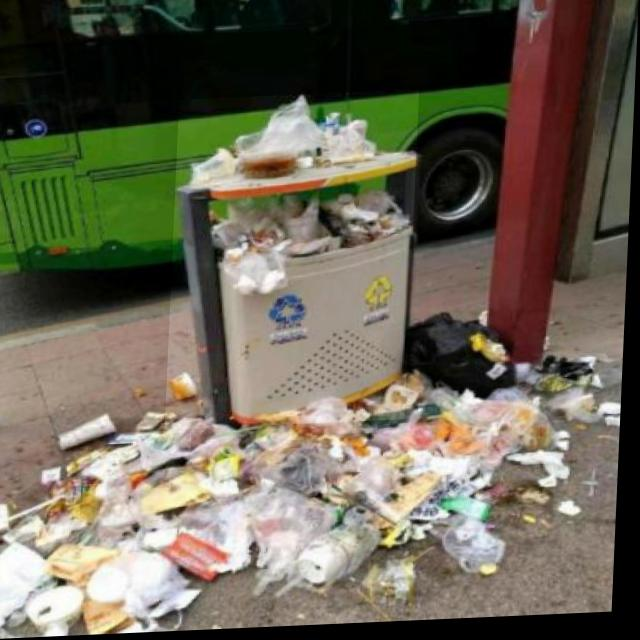garbage: (0, 310, 625, 638)
overflow: (169, 93, 420, 432)
